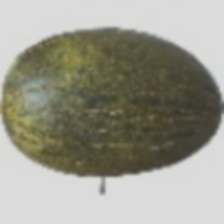honeydew: (11, 31, 173, 177)
